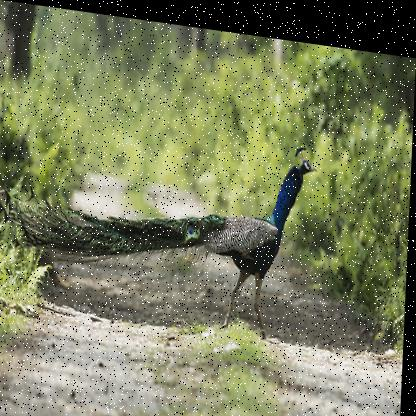Burung: (0, 104, 319, 337)
